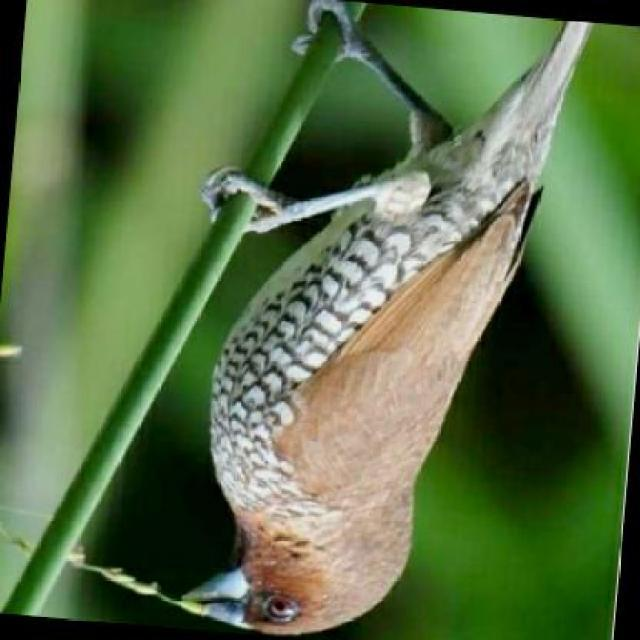Bird: (174, 2, 600, 636)
